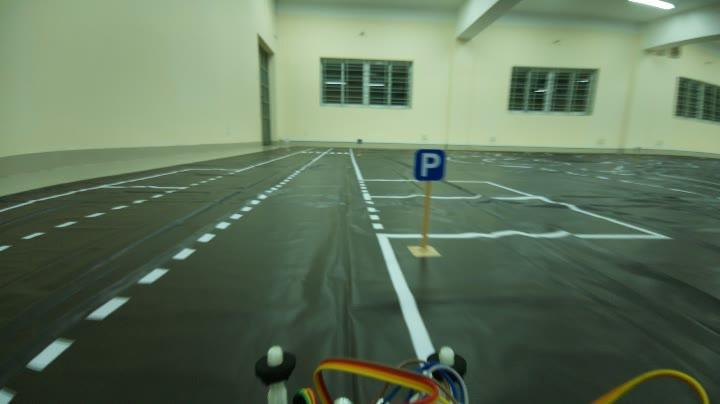parking: (405, 144, 452, 184)
